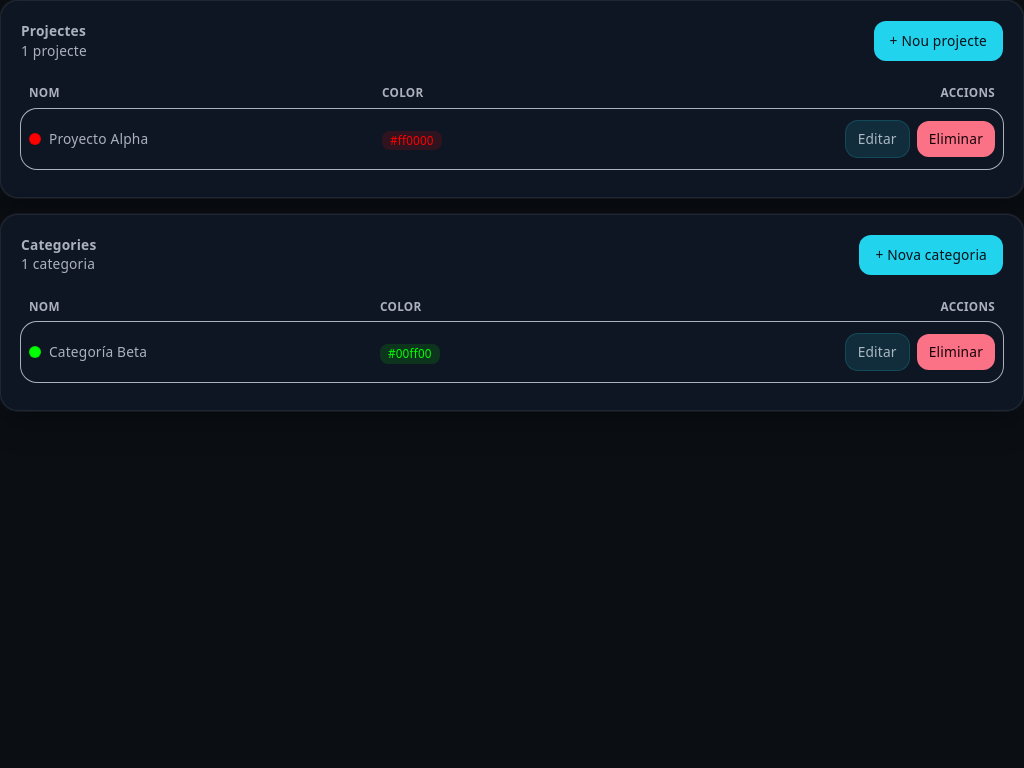
TasksManagePage › opens new project modal
This screenshot has width=1024, height=768.
Click the button "+ Nou projecte": (938, 41) x1=874 y1=21 x2=1003 y2=61
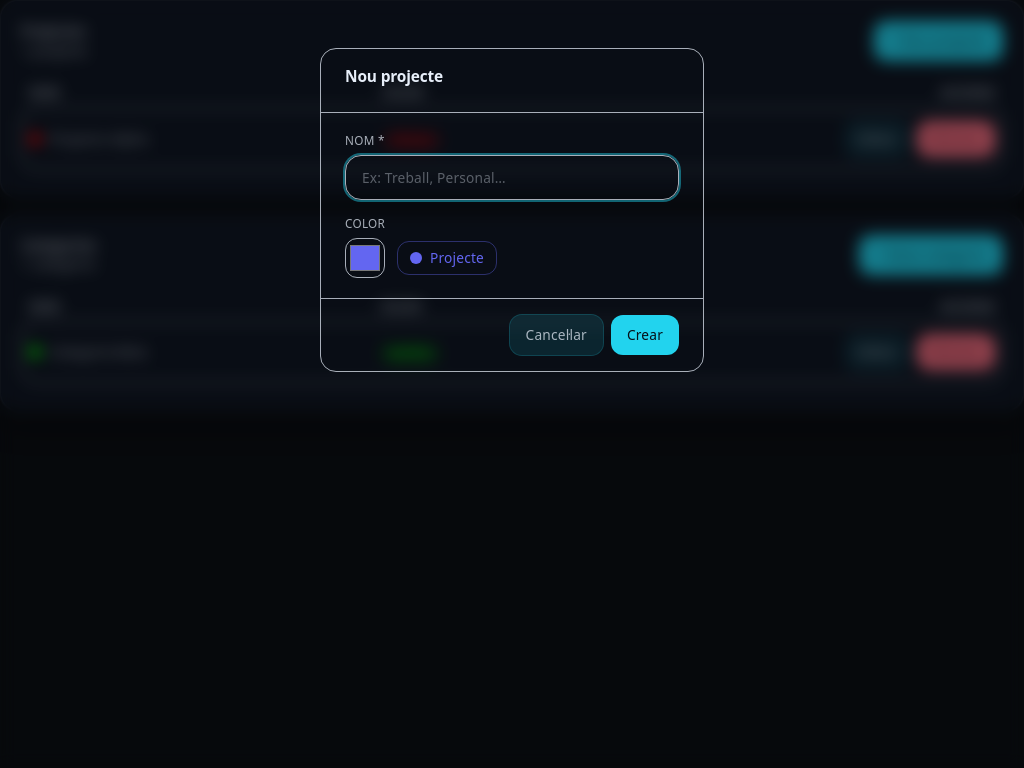
Expected: the dialog is shown
